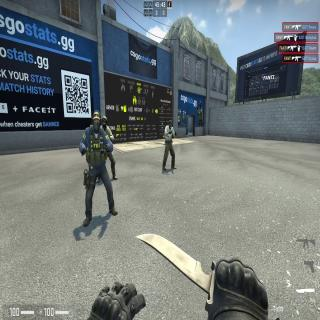CT-Body: (84, 110, 114, 220)
CT-Head: (91, 111, 102, 132), (101, 116, 108, 129)
T-Body: (163, 122, 174, 172)
T-Head: (169, 120, 172, 129)
